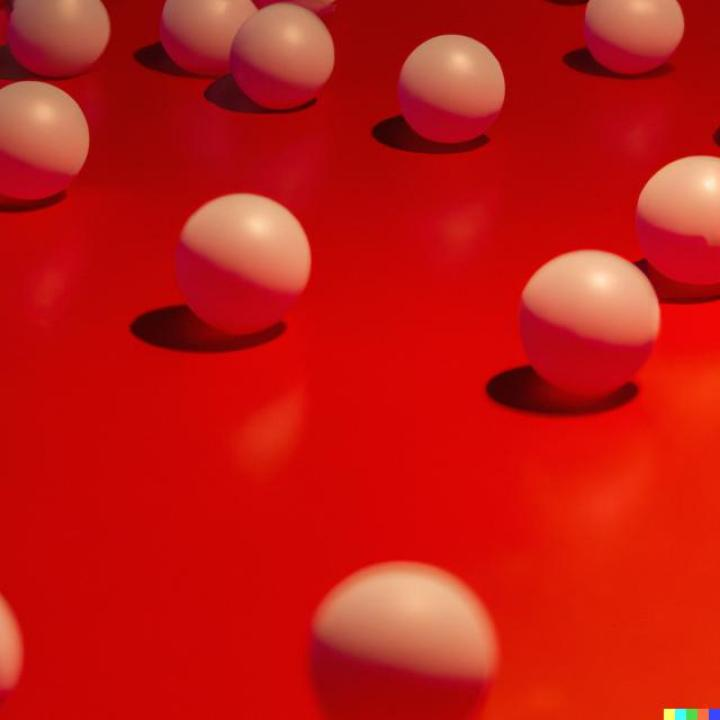white: (311, 565, 497, 719), (519, 251, 661, 395), (176, 194, 310, 335), (396, 36, 506, 144), (232, 2, 335, 109), (0, 79, 91, 200), (638, 155, 720, 285), (7, 1, 110, 77), (160, 1, 261, 78), (584, 0, 684, 74), (0, 595, 25, 707)
